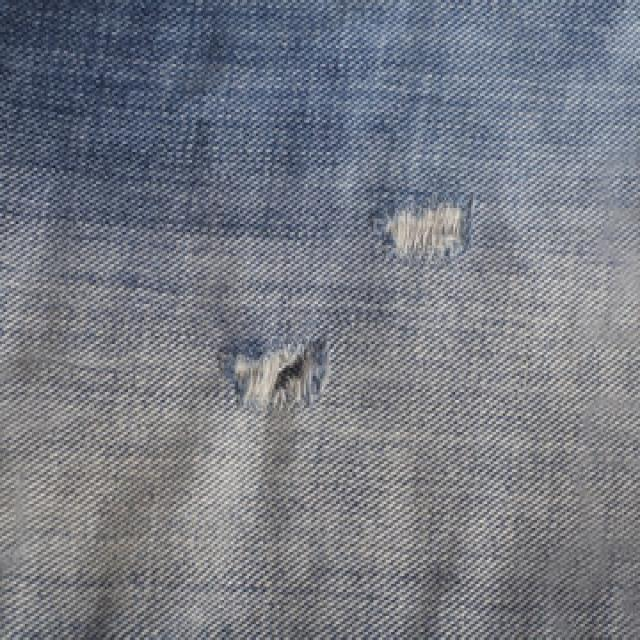Hole: (219, 338, 329, 415), (374, 193, 474, 262)
